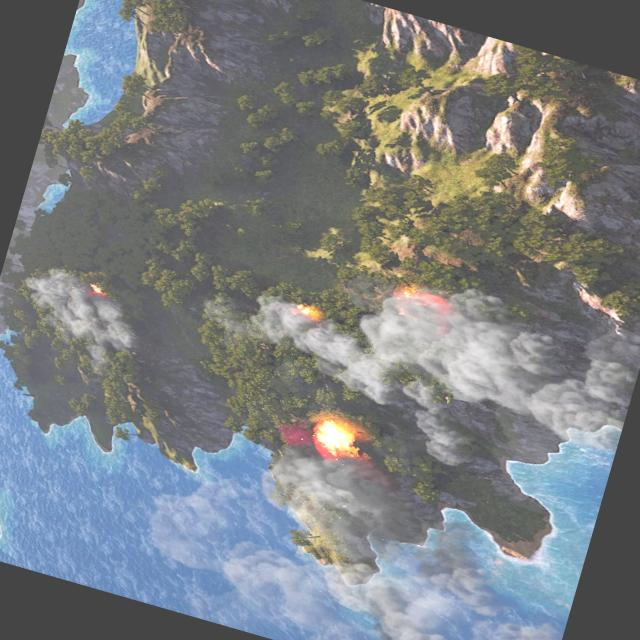fire: (377, 276, 456, 331), (306, 412, 364, 462), (292, 300, 322, 321), (84, 280, 115, 300)
smoke: (195, 212, 640, 508), (123, 404, 594, 640), (12, 258, 154, 366)
